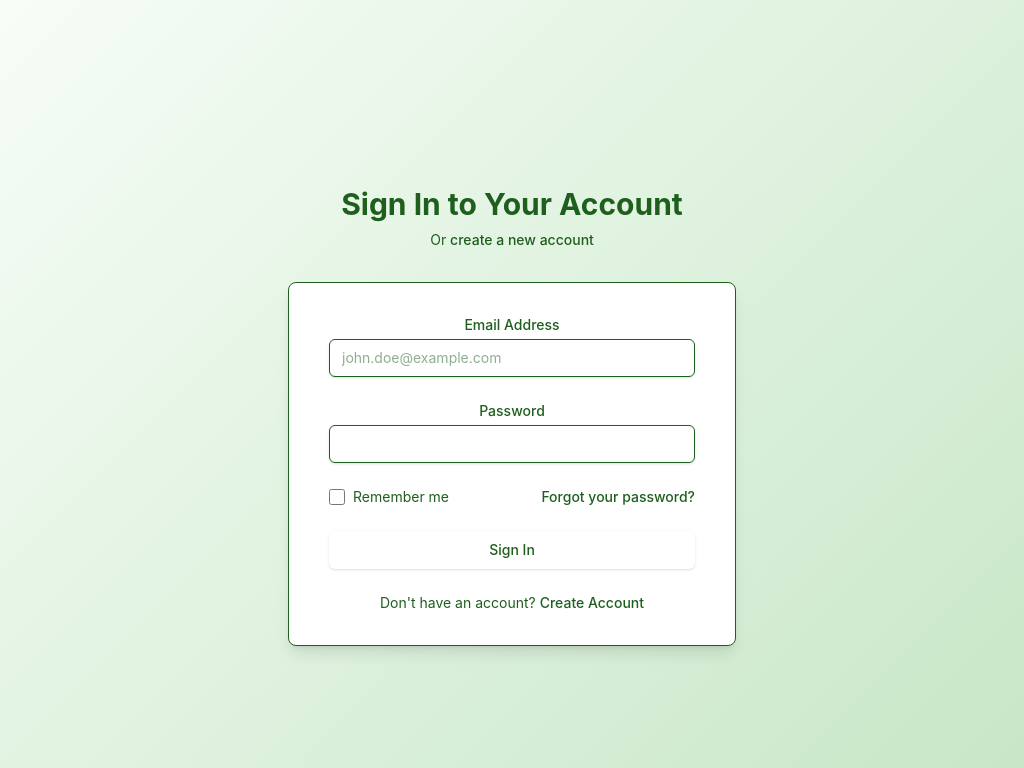
Test: Login Flow Integration Tests - Simple › should handle login errors
The image size is (1024, 768).
Expected: the heading "Sign In to Your Account" is shown, [341,186,683,222]
Note: Fill out the form
In the field labelled "Email Address": (512, 358) [329,339,695,377], type "wrong@example.com"
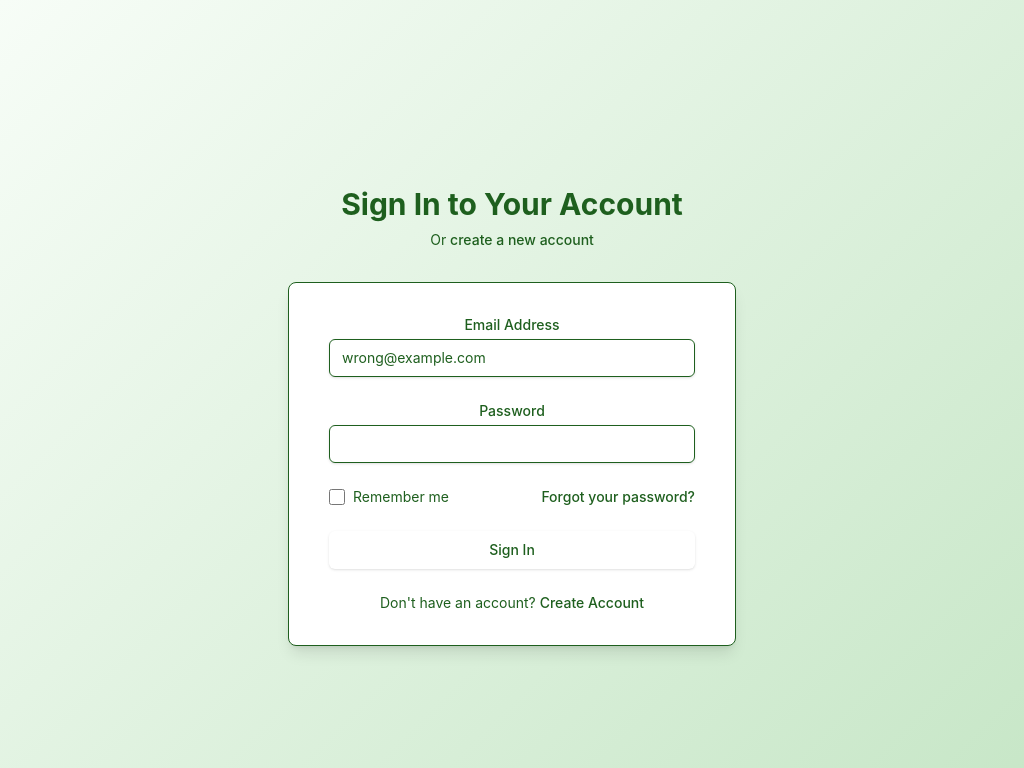
In the password field labelled "Password": (512, 444) [329,425,695,463], type "wrongpassword"
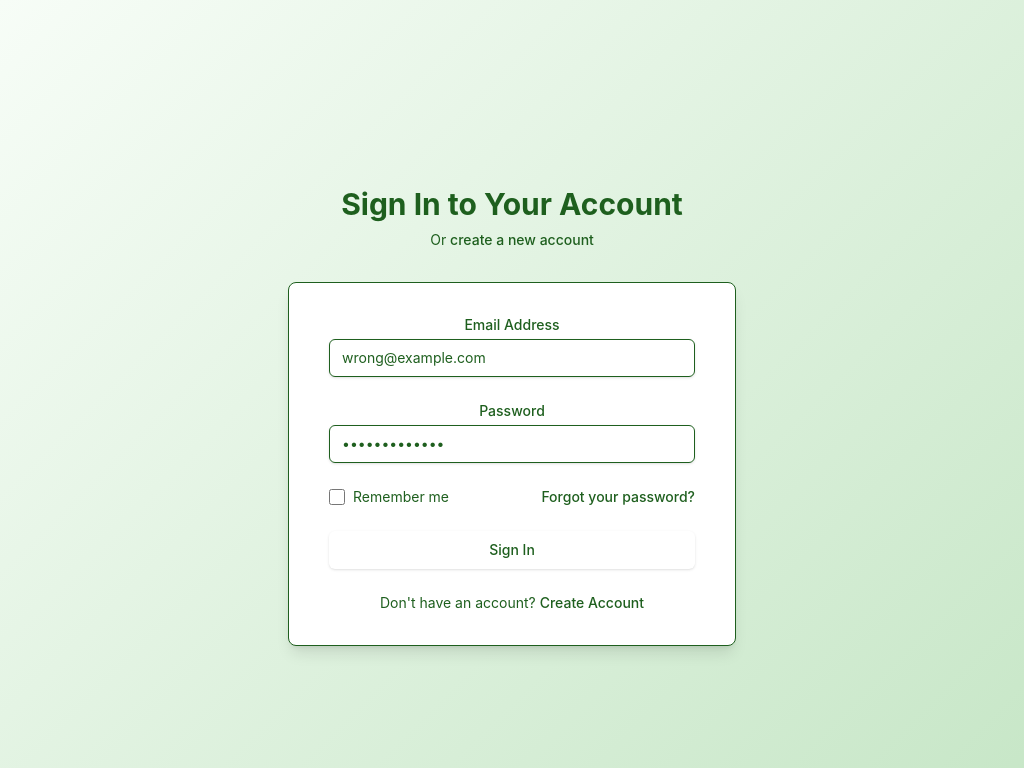
Note: Submit the form
Click the button "Sign In": (512, 550) [329,531,695,569]
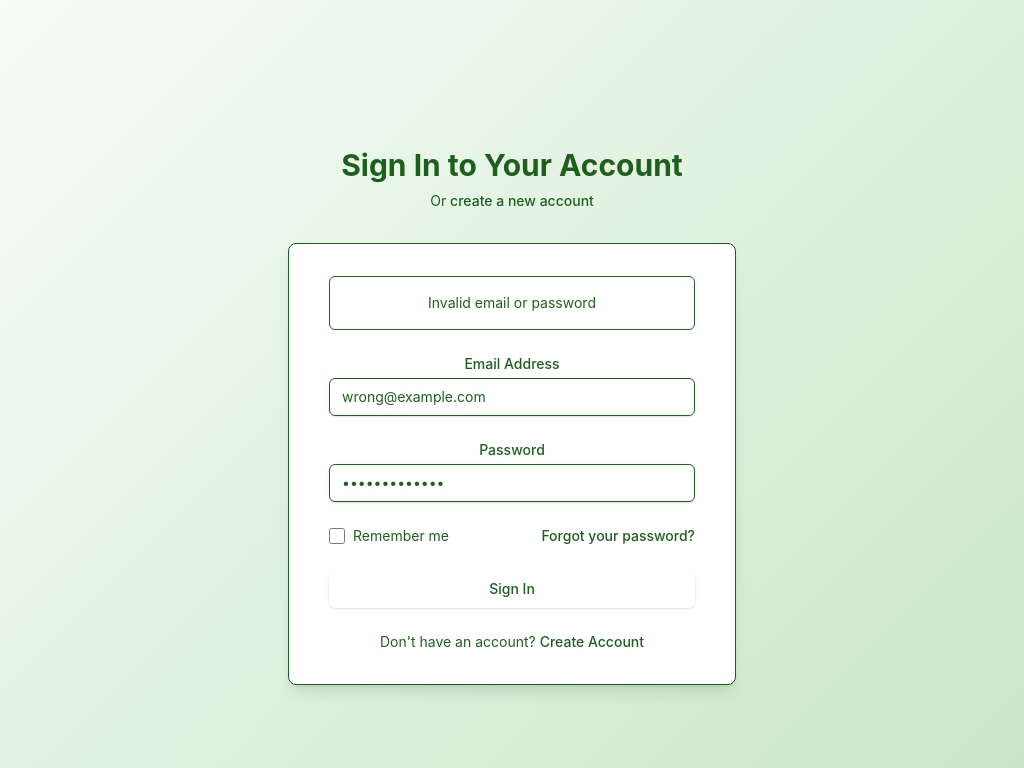
Expected: the heading "Sign In to Your Account" is shown, [341,147,683,183]
Expected: the text "Invalid email or password" is shown, [428,294,596,311]
